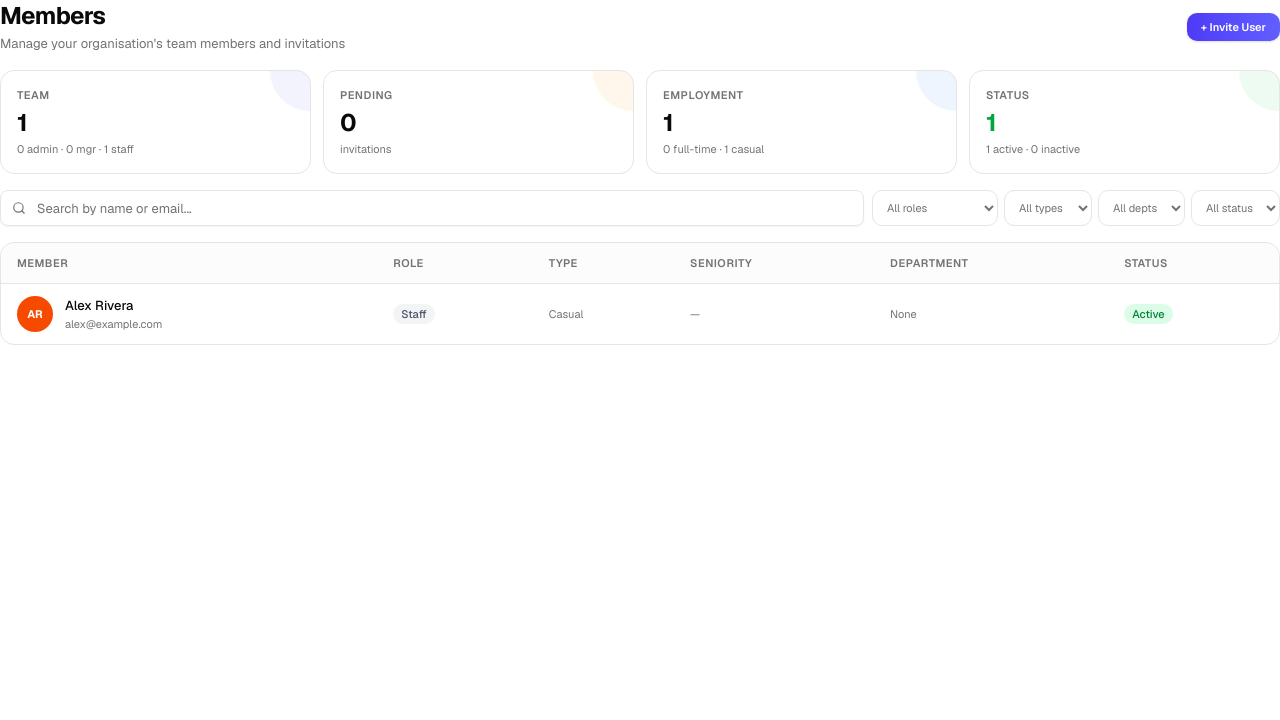
Test: opening a member without an Actions column › opens the drawer from it
The image size is (1280, 720).
Click the button with aria-label "Edit Alex Rivera": (99, 306) left=65, top=296, right=133, bottom=316
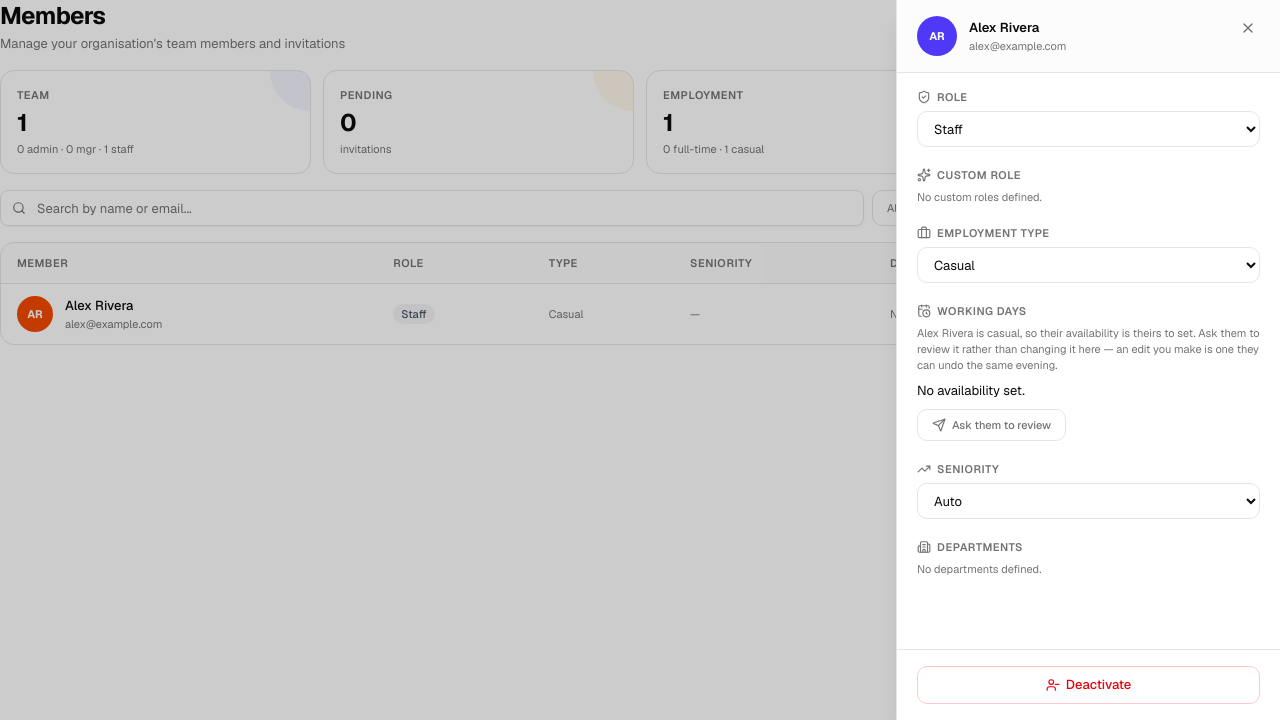
Now the dialog named "Edit Alex Rivera" is shown, box left=896, top=0, right=1279, bottom=719
